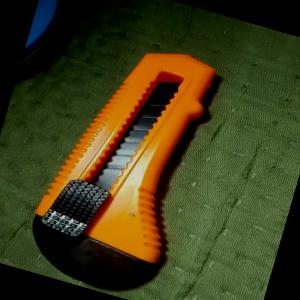estilete: (18, 25, 218, 300)
